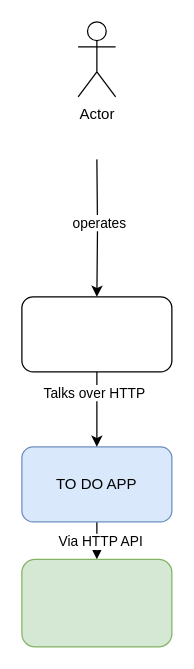
The diagram is 194 pixels wide and 669 high, and some of its shapes have lost their labels. The centre of each missing label's shape, as x and y in pixels:
"Trello API" goes at (96,602).
"web browser (client)" goes at (96,334).
